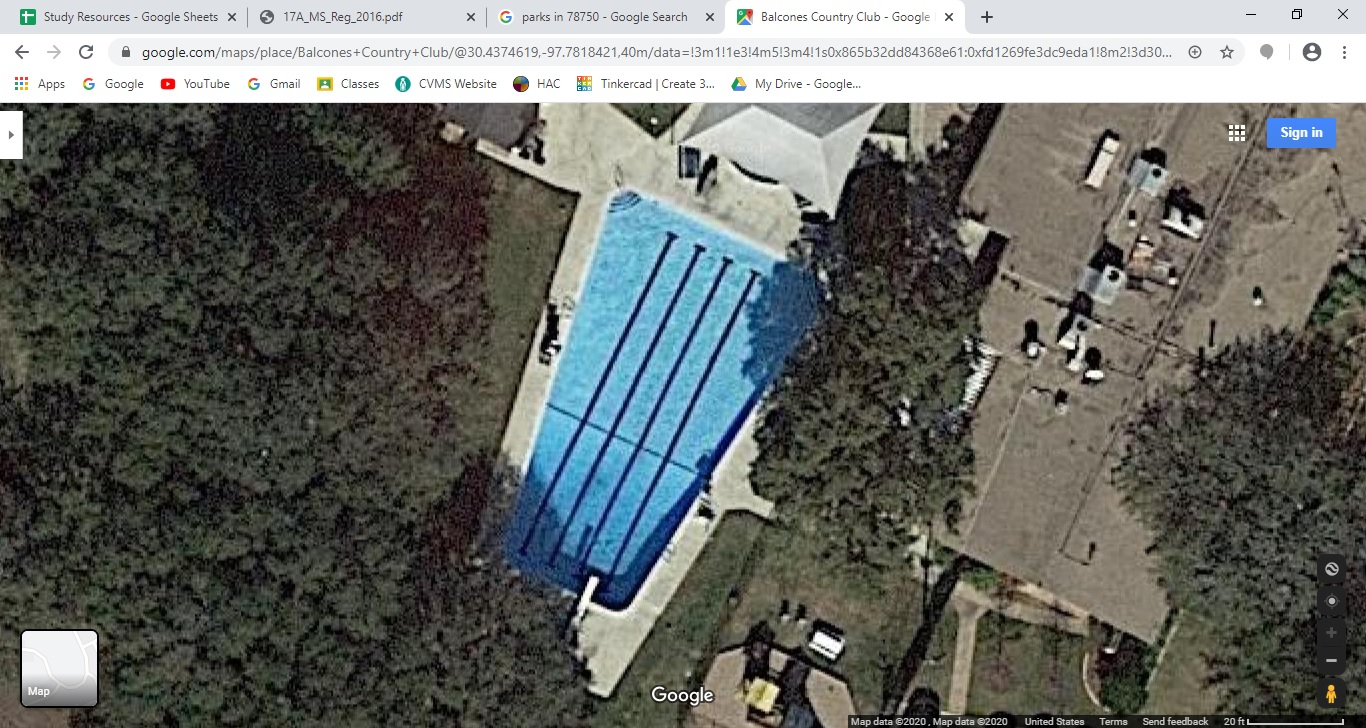pool: (471, 168, 860, 662)
